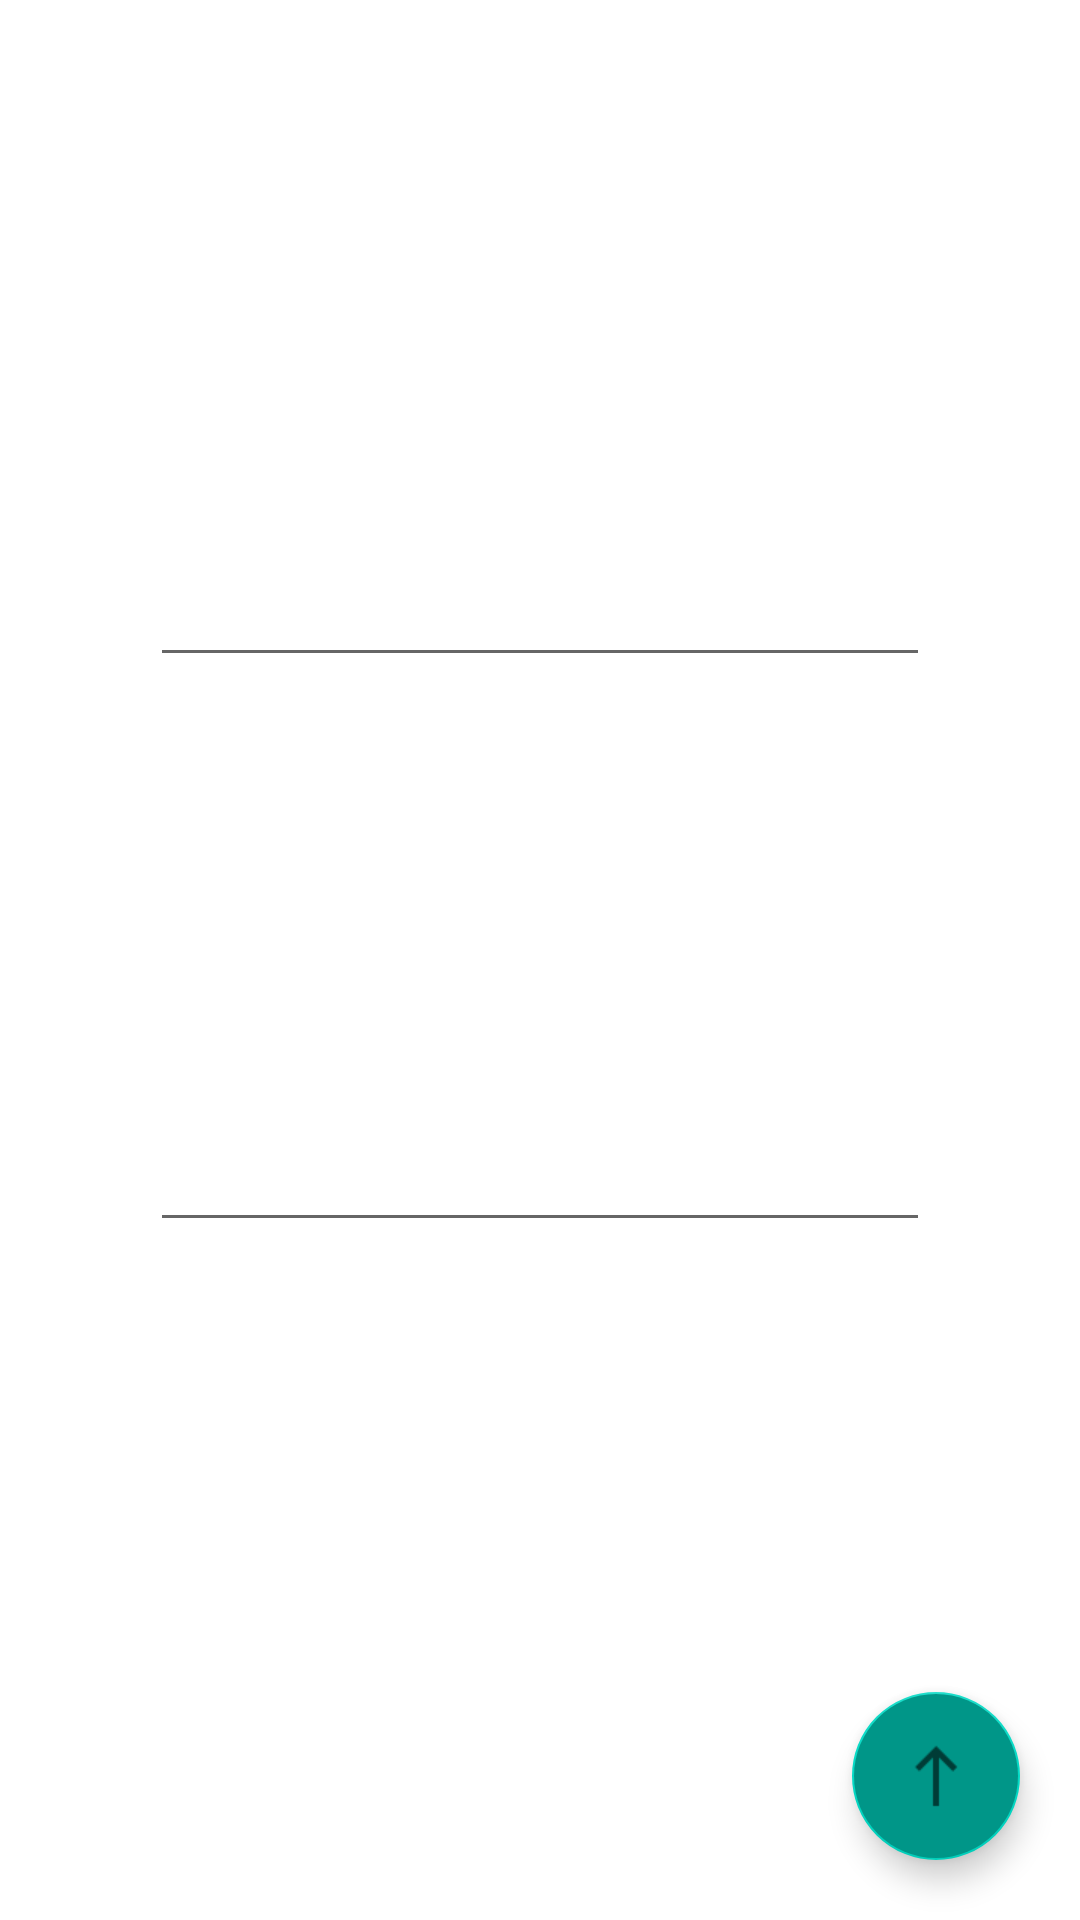

Point at icon controls on the screen. Image size 1080×1920, points as [x,y].
north: [936,1776]
